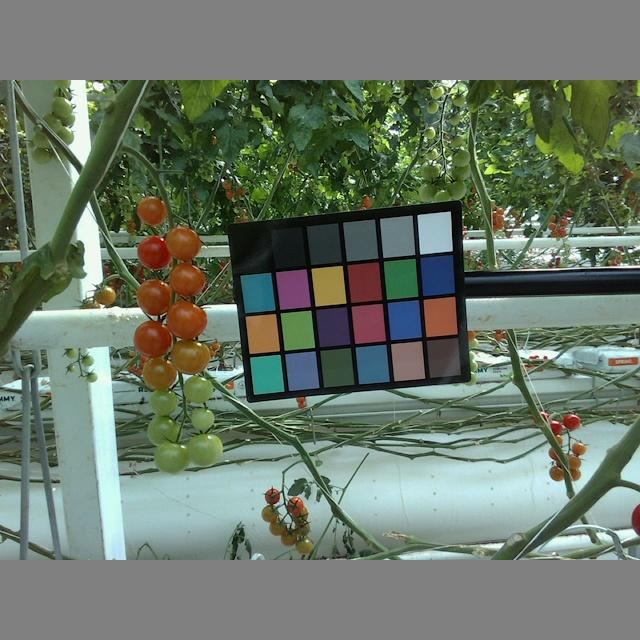green: (187, 430, 224, 469), (146, 416, 183, 449), (153, 442, 190, 475), (180, 374, 212, 404), (149, 388, 178, 416), (190, 406, 218, 430)
pink: (164, 301, 208, 340), (135, 319, 173, 360), (166, 340, 210, 374), (138, 278, 173, 315), (140, 357, 180, 389), (168, 225, 200, 264), (170, 264, 205, 298), (136, 195, 166, 226)
red: (137, 237, 177, 268)
